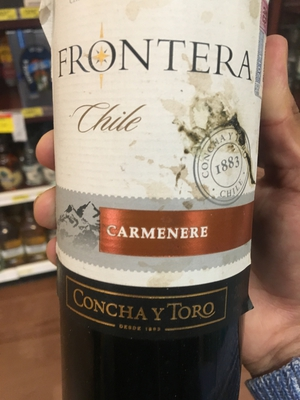frontera carmenere: (46, 2, 274, 381)
